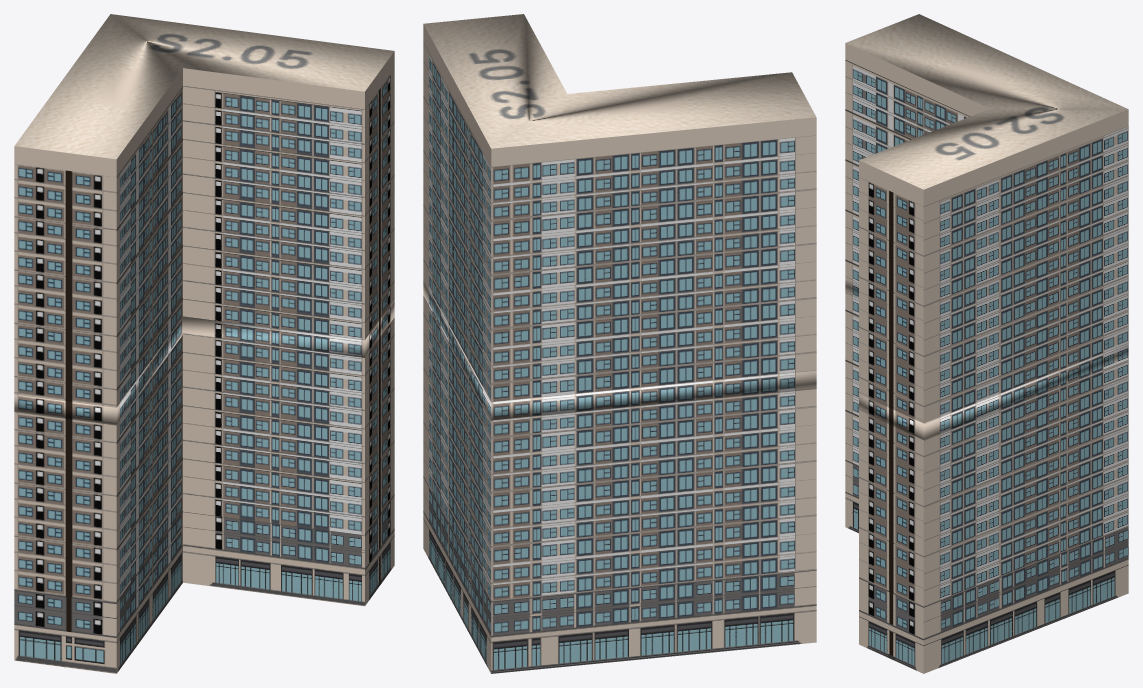
The picture shows the model from 3 angles, left to right: view 1: azimuth 30°, elevation 25°; view 2: azimuth 150°, elevation 25°; view 3: azimuth 270°, elevation 25°; orthographic projection. The views are drawn at different scales.
Parts seen in each view (by area): view 1: Asset3DLoader.sceneRoot; view 2: Asset3DLoader.sceneRoot; view 3: Asset3DLoader.sceneRoot.
Boxes of the visible parts, x1=… form: Asset3DLoader.sceneRoot: x1=14, y1=14, x2=394, y2=673; Asset3DLoader.sceneRoot: x1=423, y1=14, x2=816, y2=673; Asset3DLoader.sceneRoot: x1=845, y1=14, x2=1128, y2=673.
Bounding box in the file's own units: 74.33 × 95.5 × 50.62.
Materials: 1 (1 with a texture image).
